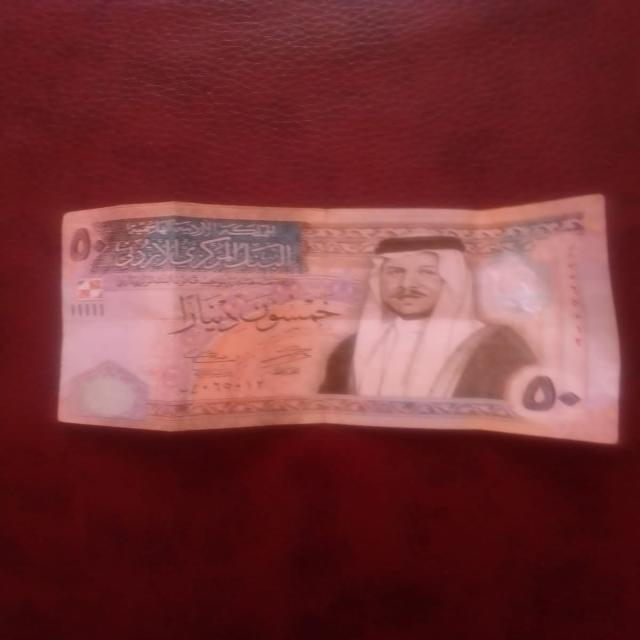50-dinar: (56, 195, 622, 447)
